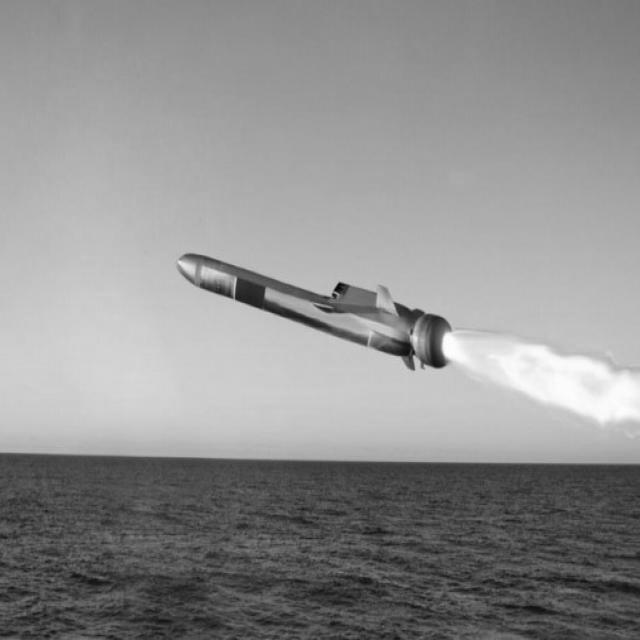missile: (163, 246, 457, 365)
